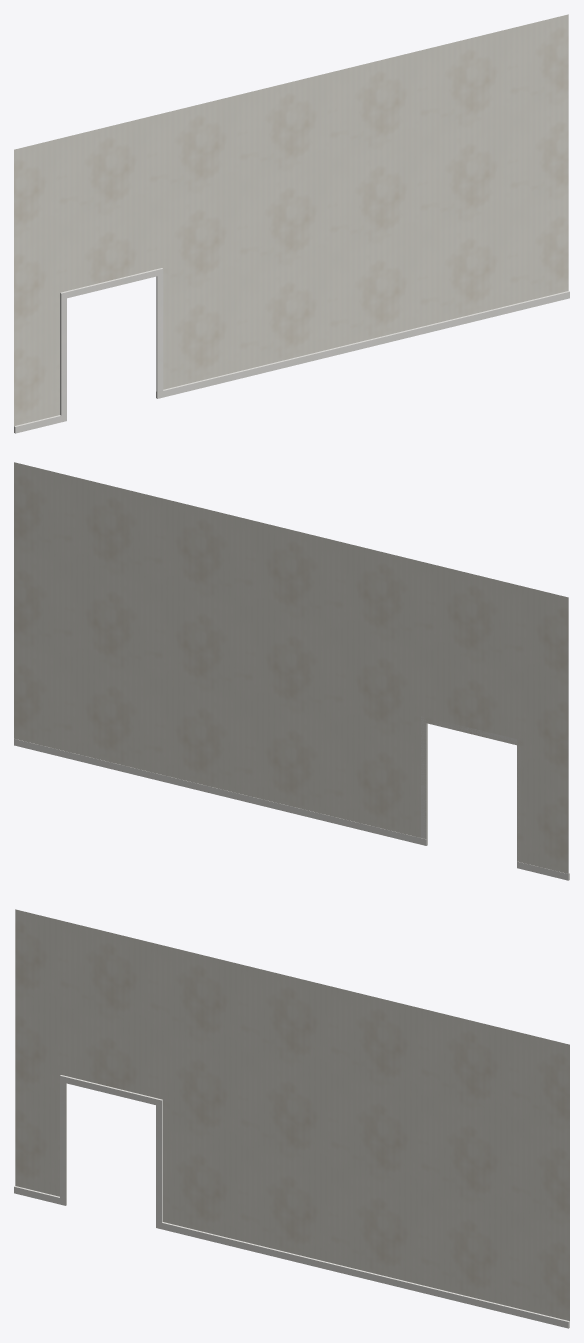
3 views of the same model, one above another, from view 1: azimuth 30°, elevation 25°; view 2: azimuth 150°, elevation 25°; view 3: azimuth 330°, elevation 25° (orthographic).
Parts seen in each view (by area): view 1: jx_wm_12_a4075983; view 2: jx_wm_12_a4075983; view 3: jx_wm_12_a4075983.
Part boxes in pixels (x1=…): jx_wm_12_a4075983: x1=14, y1=14, x2=569, y2=433; jx_wm_12_a4075983: x1=14, y1=462, x2=569, y2=880; jx_wm_12_a4075983: x1=14, y1=909, x2=569, y2=1328.
Bounding box in the file's own units: 12.3 × 6 × 0.05.
2 materials, 2 textured.
